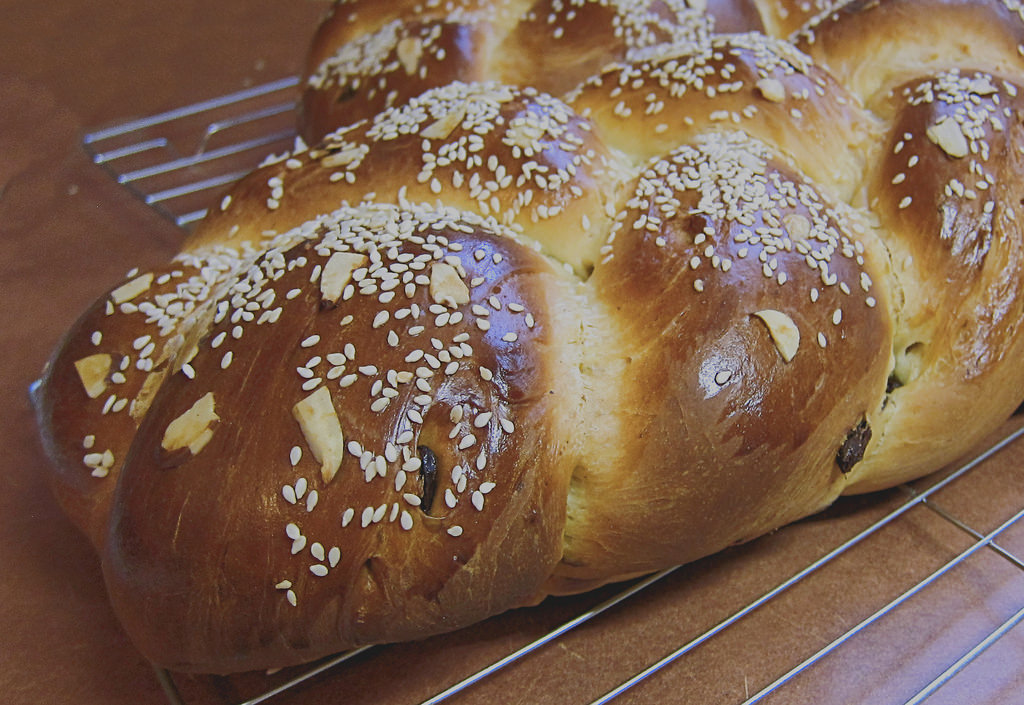slice of bread: (273, 144, 975, 444)
